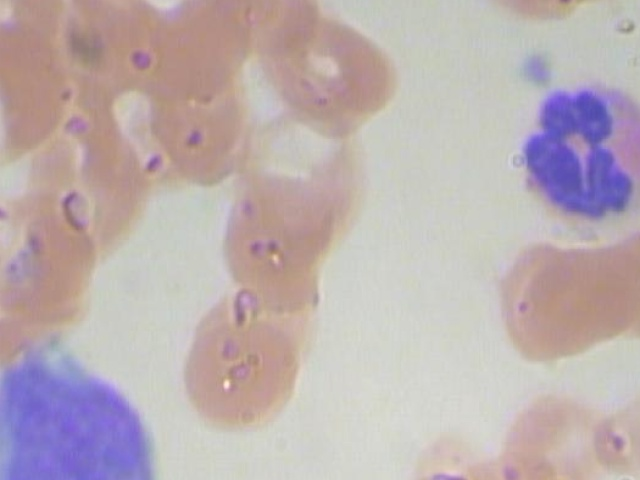Platelets: (513, 41, 556, 93)
RBC: (11, 105, 154, 257), (168, 307, 325, 433), (194, 167, 350, 292), (255, 4, 411, 129), (511, 227, 640, 353), (147, 52, 264, 185), (485, 381, 640, 480), (0, 7, 85, 158), (578, 208, 640, 334), (595, 362, 640, 480)
WBC: (0, 329, 165, 480), (506, 79, 640, 235)
